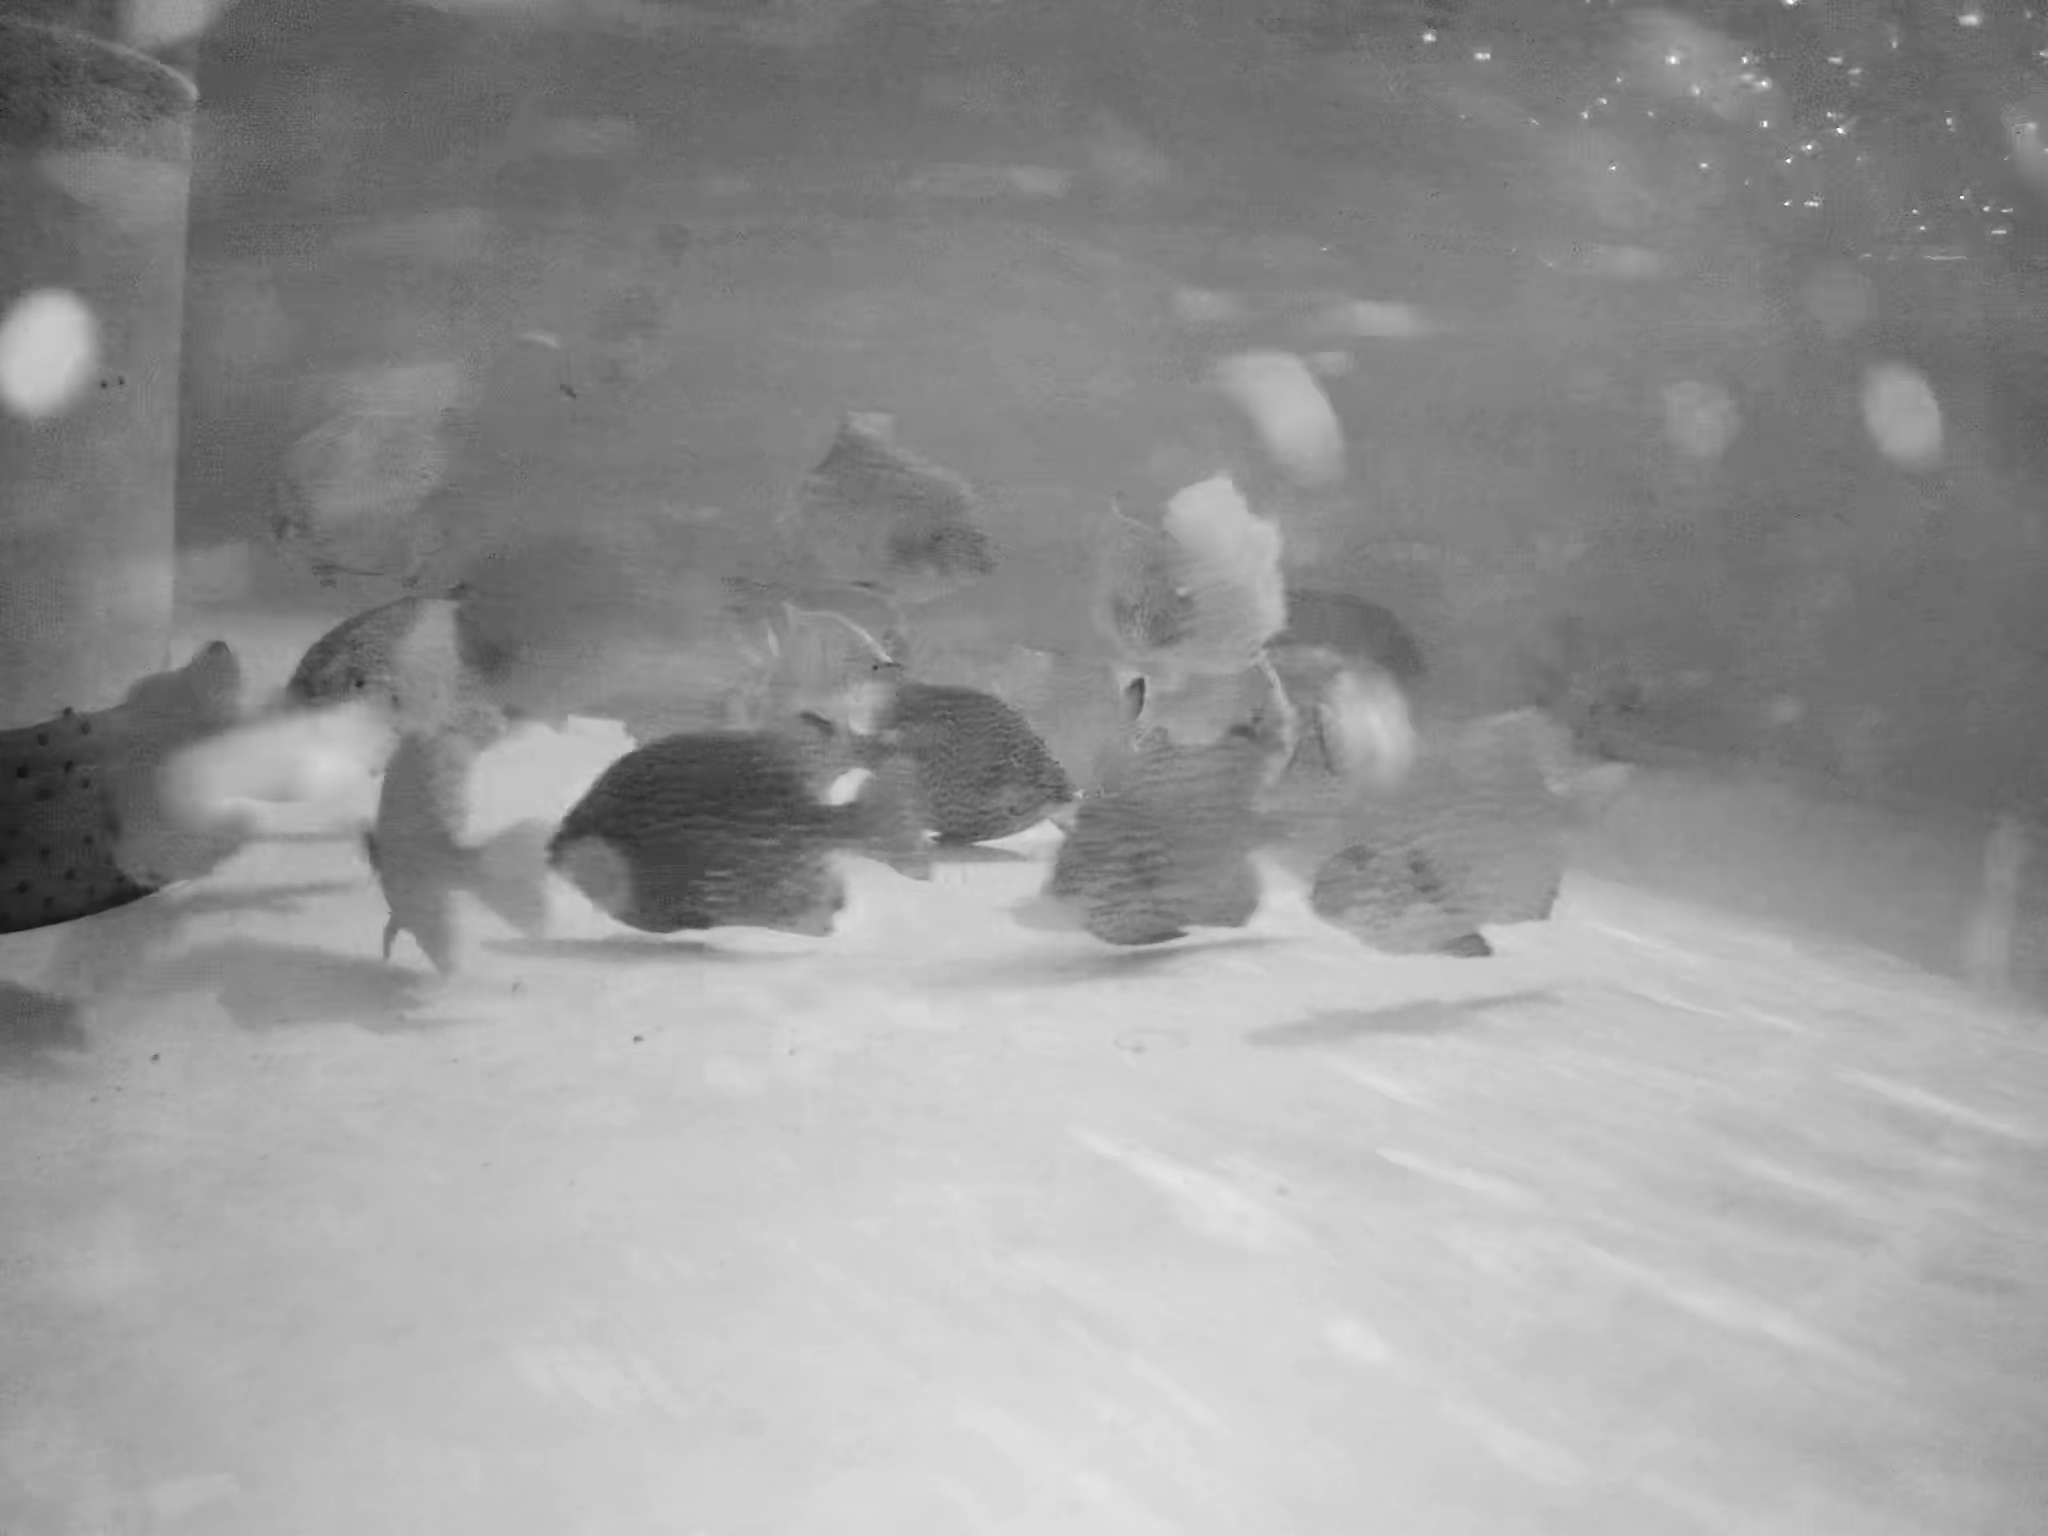fish: (540, 728, 864, 950), (1317, 716, 1625, 925), (440, 528, 768, 708), (1035, 745, 1288, 952), (355, 724, 548, 991), (777, 403, 1008, 608), (45, 649, 240, 891), (779, 687, 1077, 837), (1118, 465, 1293, 670), (1105, 631, 1314, 786), (1264, 615, 1413, 787), (584, 208, 706, 410), (279, 603, 477, 716), (248, 395, 452, 499), (735, 602, 900, 702), (1321, 870, 1500, 958), (261, 513, 443, 587)
